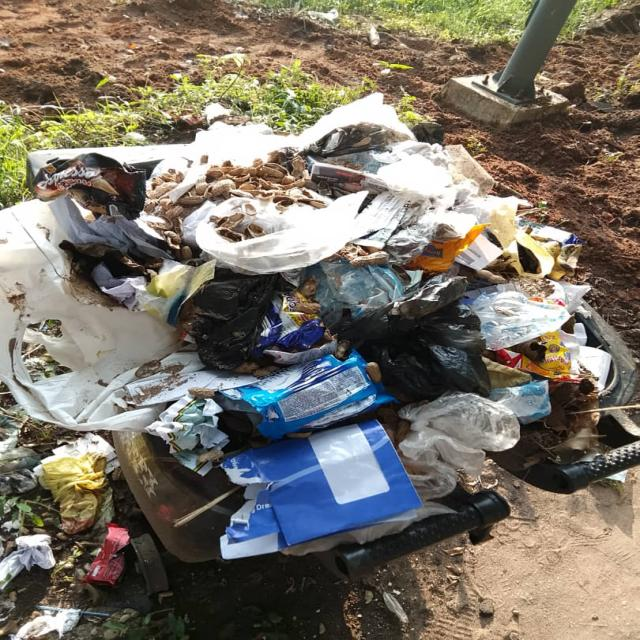overflowing: (22, 108, 620, 550)
